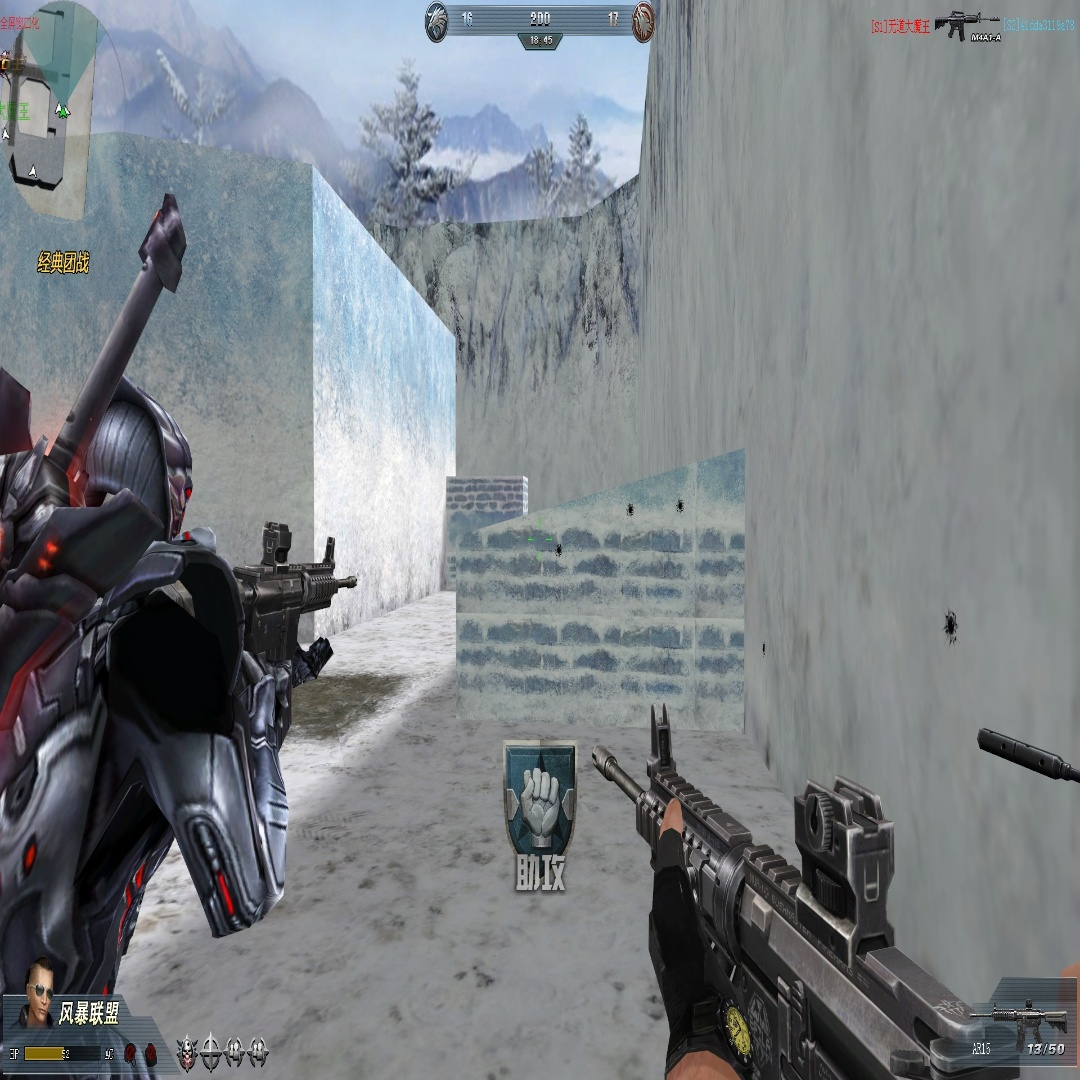t: (1, 99, 195, 994)
